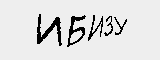Б: (66, 9, 89, 49)
З: (103, 14, 115, 39)
И: (34, 12, 66, 50), (86, 13, 103, 43)
У: (110, 15, 128, 39)
